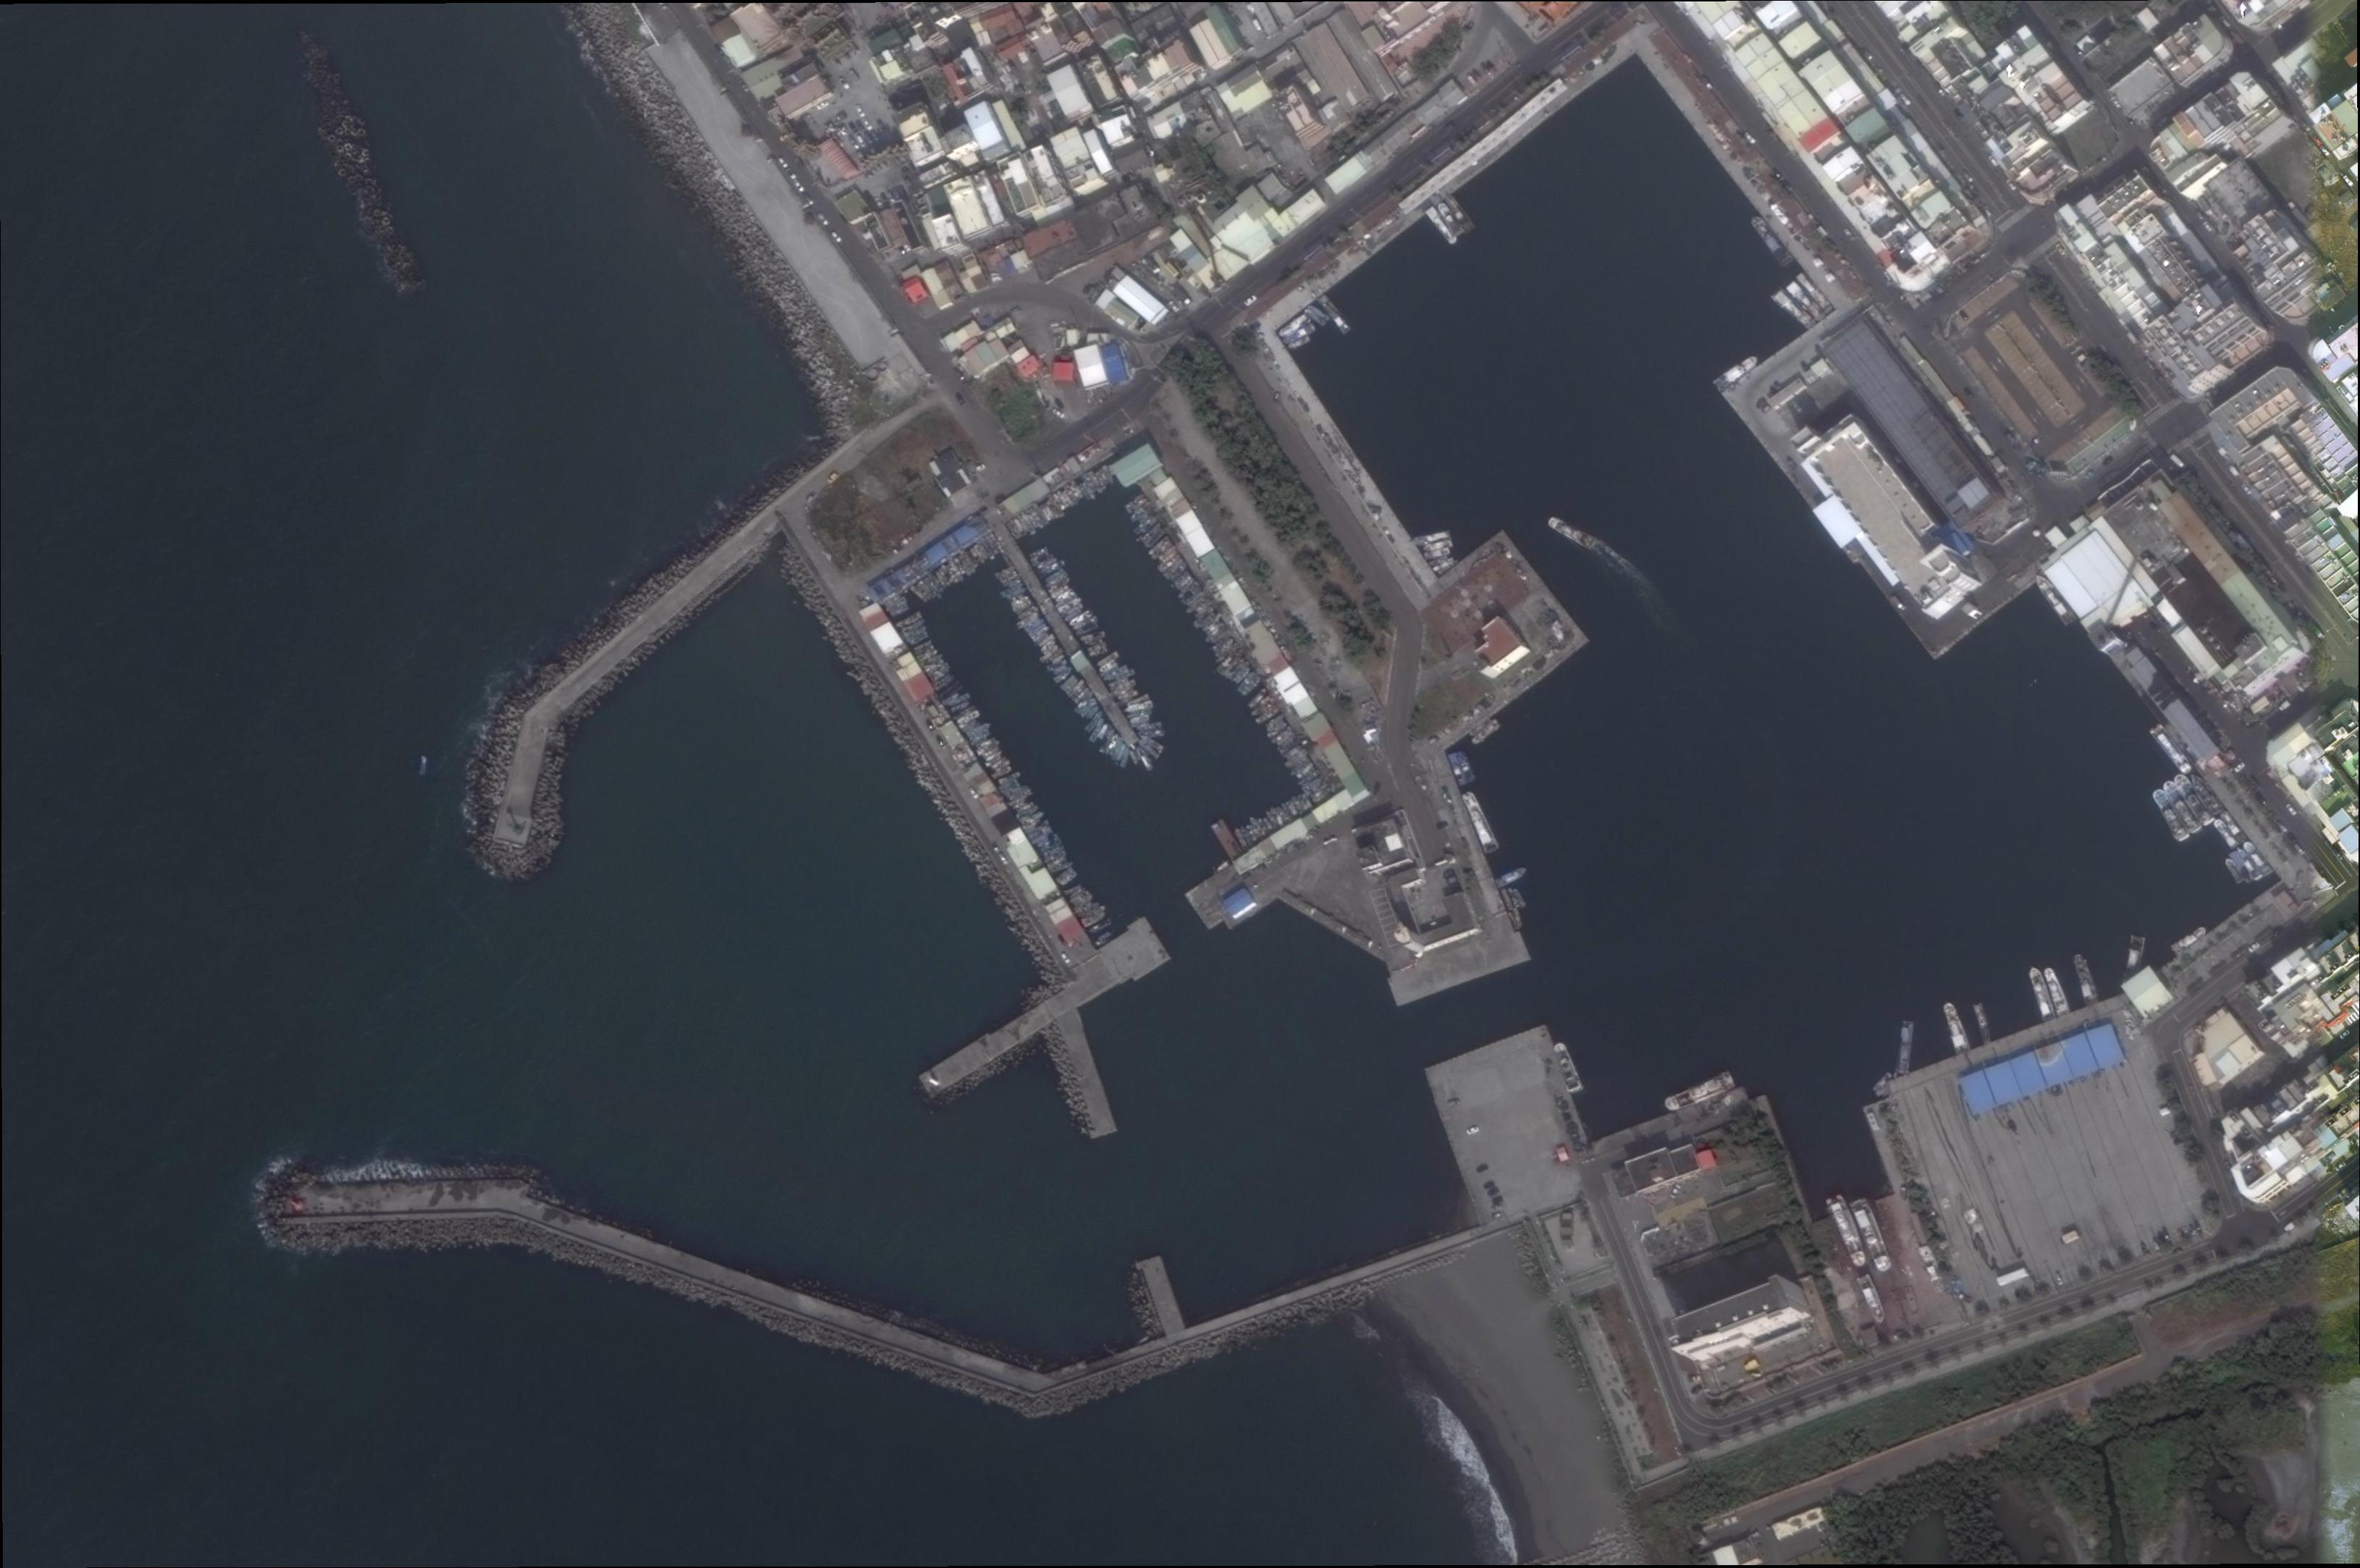harbor: (987, 528, 1176, 784), (918, 980, 1088, 1099), (1058, 1015, 1116, 1139), (1139, 1256, 1186, 1337)
ship: (1849, 1197, 1895, 1274), (1825, 1193, 1868, 1269), (1664, 1073, 1737, 1115), (1461, 789, 1499, 856), (2033, 572, 2078, 628), (2161, 779, 2204, 837), (2171, 772, 2217, 826), (1749, 213, 1795, 268), (2150, 723, 2196, 775), (2150, 788, 2190, 844), (1711, 352, 1763, 394), (1772, 287, 1816, 331), (1548, 514, 1597, 553), (1784, 280, 1826, 322), (2026, 964, 2056, 1022), (2189, 772, 2225, 817), (1795, 273, 1835, 313), (1940, 1001, 1970, 1055), (1424, 203, 1461, 247), (1856, 1274, 1888, 1325), (1317, 294, 1354, 336), (2071, 952, 2099, 1006), (1554, 1043, 1583, 1094), (2042, 966, 2070, 1017), (1445, 193, 1477, 234), (2241, 840, 2274, 878), (2171, 924, 2210, 955), (2122, 935, 2145, 983), (1435, 201, 1463, 240), (1896, 1018, 1916, 1073), (2227, 847, 2255, 884), (1281, 322, 1319, 348), (2220, 808, 2248, 844), (1275, 313, 1310, 339), (1470, 719, 1501, 747), (2213, 817, 2241, 849), (1973, 1001, 1993, 1046), (1447, 751, 1470, 788), (1496, 864, 1529, 889), (1456, 747, 1477, 782), (1414, 530, 1450, 546), (2224, 857, 2245, 884), (1422, 539, 1456, 555), (1303, 303, 1331, 320), (1433, 555, 1457, 574), (1422, 546, 1452, 562), (1302, 308, 1328, 325), (1428, 553, 1454, 569), (1288, 336, 1310, 352), (1506, 886, 1520, 910), (1512, 886, 1529, 905), (1499, 887, 1513, 910), (1505, 910, 1520, 929), (1512, 908, 1524, 927)
